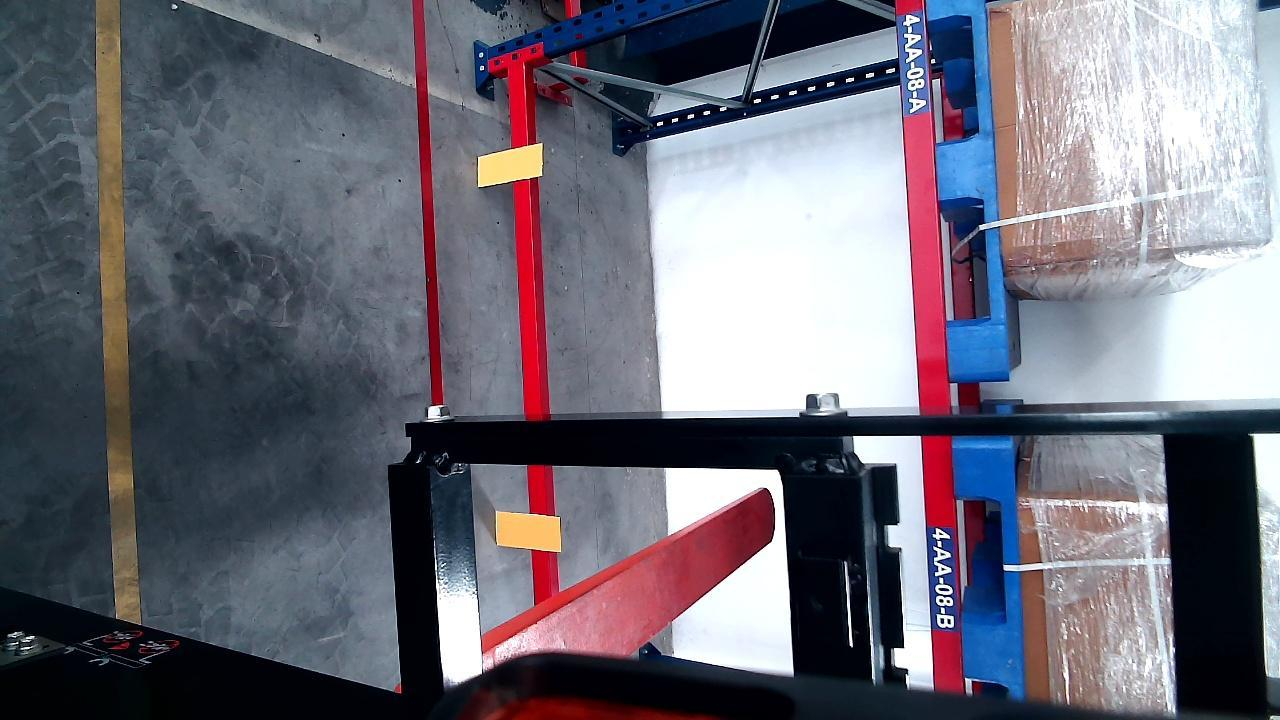red_line: (414, 0, 446, 416)
yellow_line: (95, 0, 141, 626)
